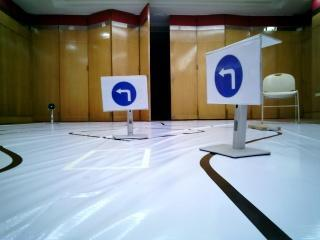left: (203, 46, 256, 112), (102, 76, 149, 110)
